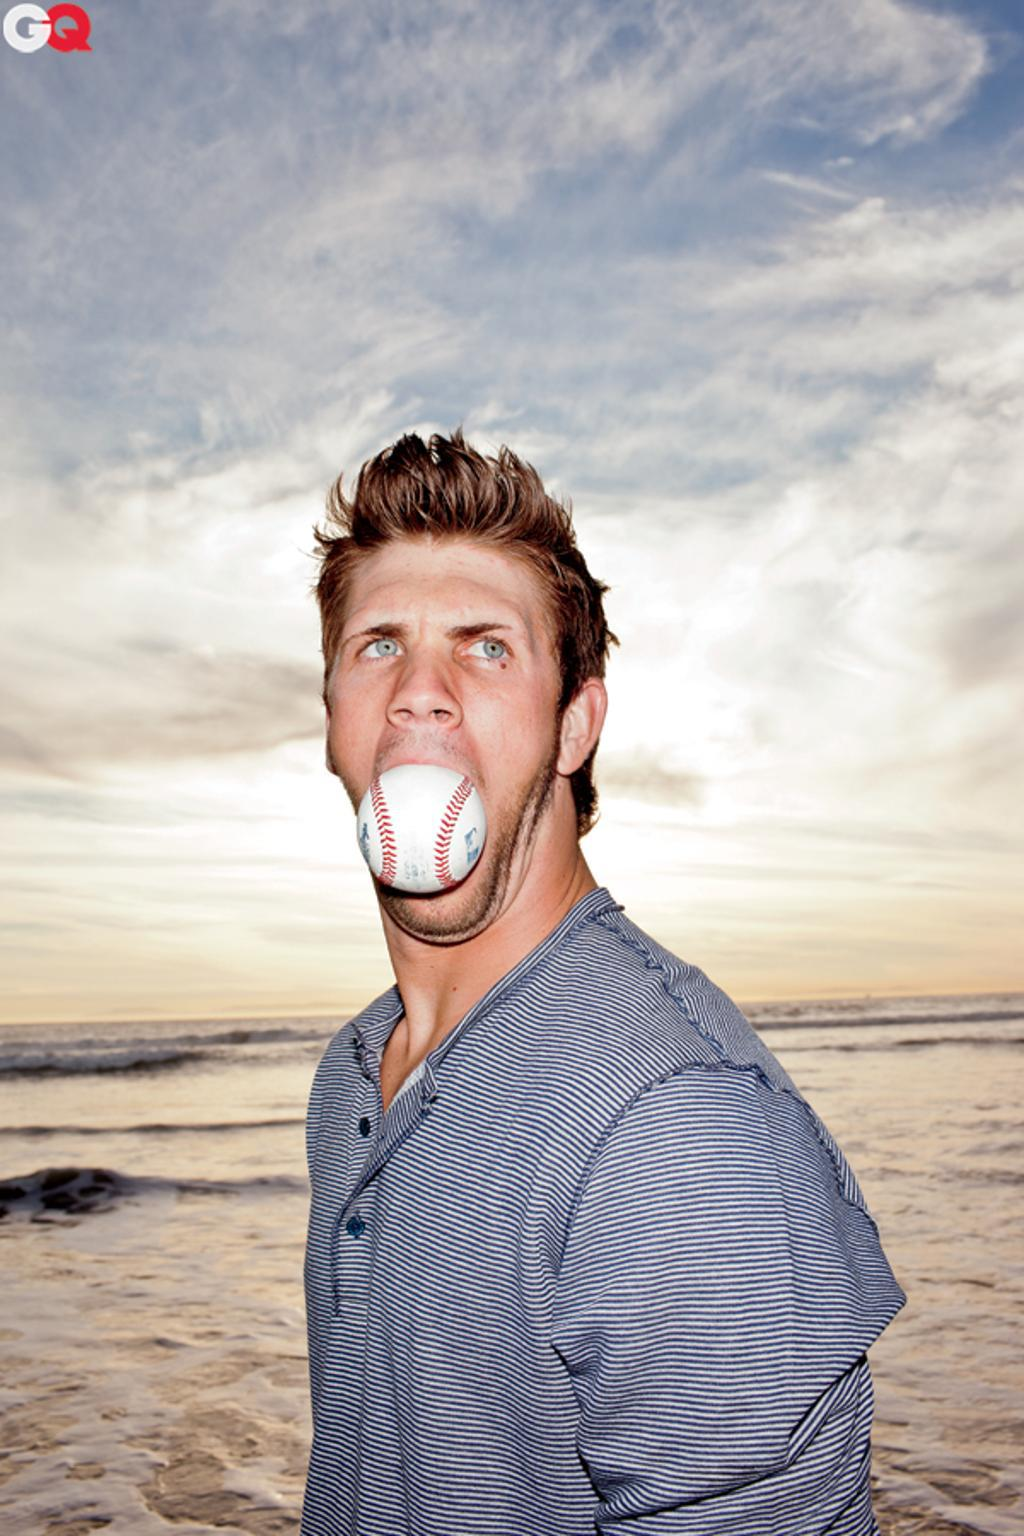face: (349, 530, 550, 926)
